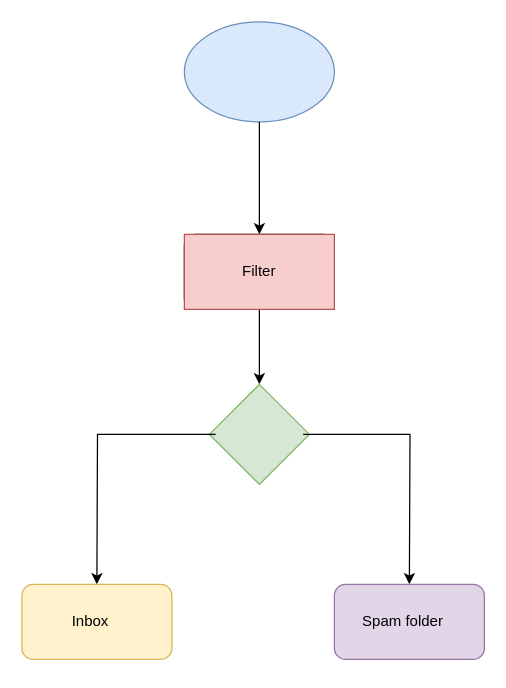
This 506x688 diagram has some shape labels left out. Here are the shapes that lost their labels. From the top down, the centre of each, then its label:
At pixel 258 71: "Email recieved".
At pixel 258 433: "Spam Email".
